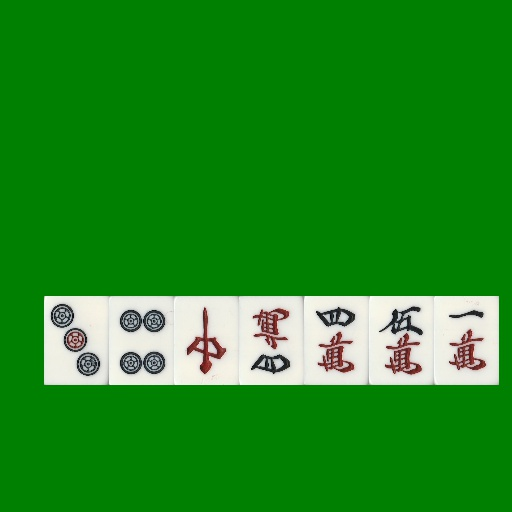1m: (434, 296, 499, 385)
3p: (44, 296, 109, 385)
4m: (239, 296, 304, 385), (304, 296, 369, 385)
4p: (109, 296, 174, 385)
5m: (369, 296, 434, 385)
tyun: (174, 296, 239, 385)
